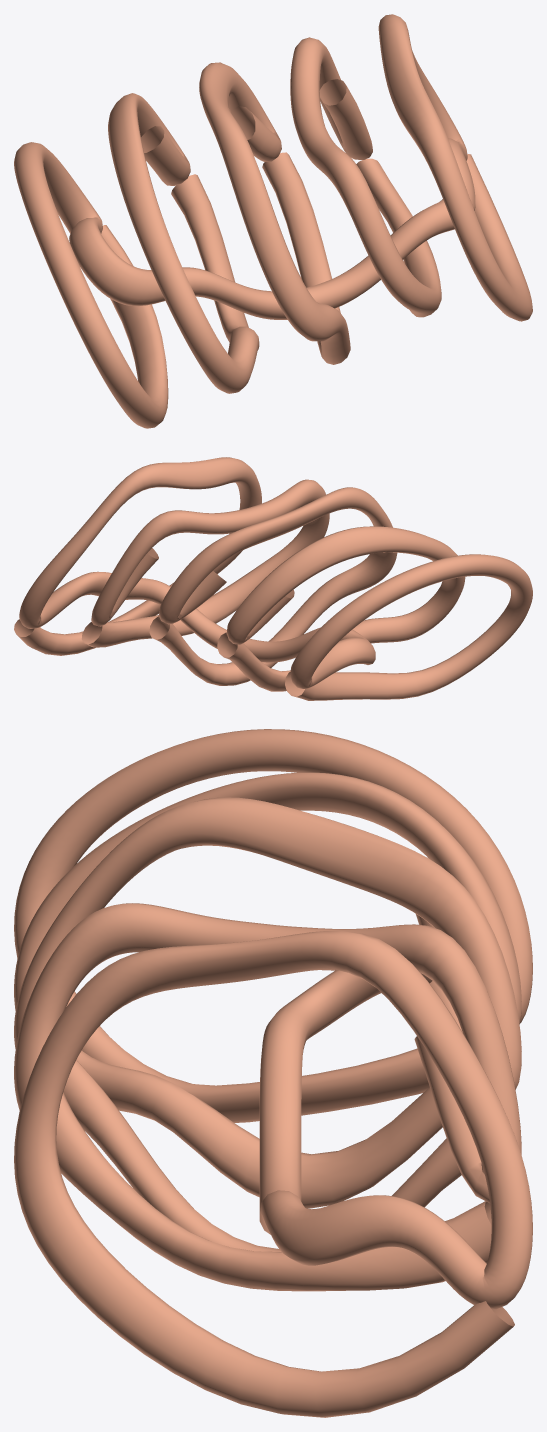
3 renders of one model, top to bottom at view 1: azimuth 30°, elevation 25°; view 2: azimuth 150°, elevation 25°; view 3: azimuth 270°, elevation 25°, orthographic. The views are drawn at different scales.
Visible parts, largest first — view 1: NurbsPath; view 2: NurbsPath; view 3: NurbsPath.
Boxes of the visible parts, bbox=[...] form: NurbsPath: bbox=[14, 14, 532, 428]; NurbsPath: bbox=[14, 457, 532, 700]; NurbsPath: bbox=[14, 729, 532, 1417].
Size of the model in its own units: 6 by 3.04 by 3.42.
